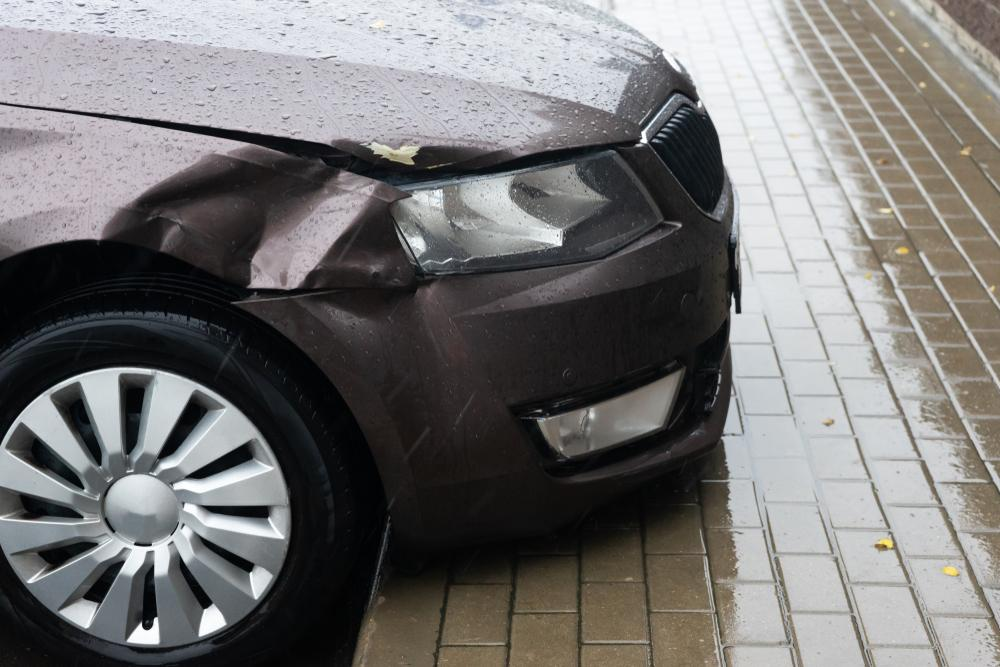dent: (102, 144, 416, 294), (327, 139, 508, 170)
